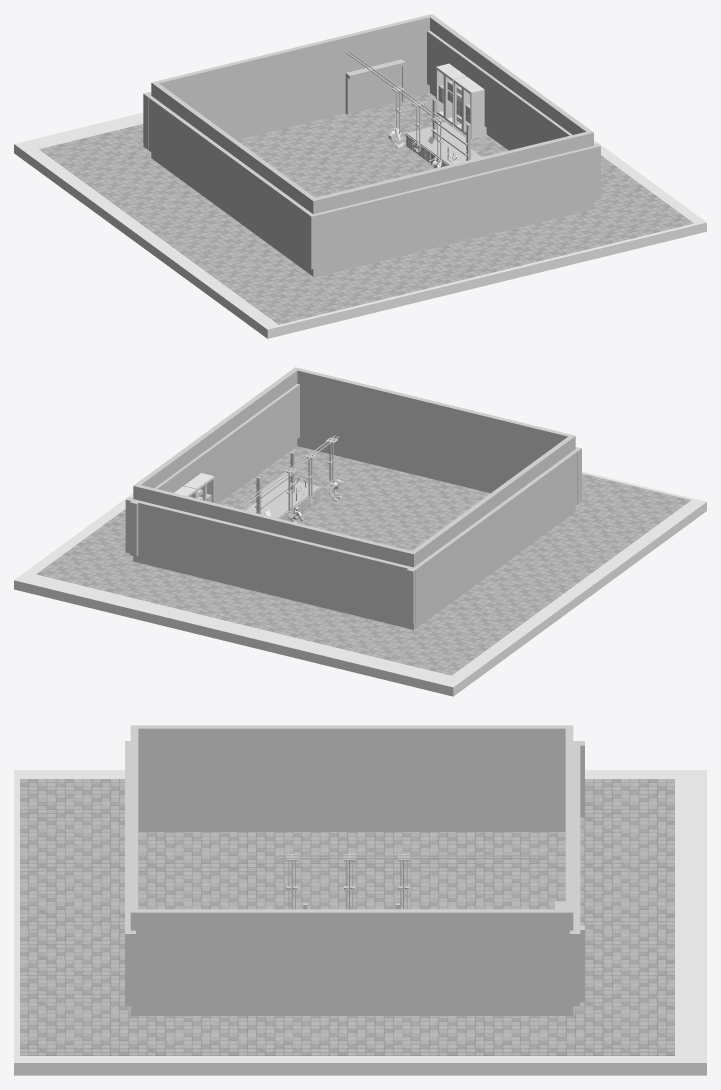
Rendered from taller5.glb.
The picture shows the model from 3 angles, top to bottom: view 1: azimuth 30°, elevation 25°; view 2: azimuth 150°, elevation 25°; view 3: azimuth 270°, elevation 25°; orthographic projection. The views are drawn at different scales.
Parts seen in each view (by area): view 1: Cube.039, collide_pared2, Cube.127, collide_suelo, collide_pared4, Cube.132, collide_pared3, Cube.142, Cube.126, Cube.140, Cube.045, collide_mesa (+2 smaller); view 2: Cube.039, Cube.132, collide_suelo, collide_pared1, collide_pared4, Cube.127, collide_pared3, Cube.142, Cube.126, Cube.045, collide_mesa; view 3: Cube.039, Cube.126, Cube.142, collide_suelo, collide_pared1, collide_pared2, Cube.127, Cube.132.
Part boxes in pixels (left/top/right/bottom): Cube.039: left=39, top=93, right=693, bottom=324; collide_pared2: left=307, top=143, right=600, bottom=269; Cube.127: left=154, top=14, right=432, bottom=139; collide_suelo: left=14, top=112, right=706, bottom=338; collide_pared4: left=143, top=92, right=314, bottom=266; Cube.132: left=313, top=130, right=593, bottom=276; collide_pared3: left=427, top=30, right=593, bottom=148; Cube.142: left=151, top=81, right=317, bottom=276; Cube.126: left=427, top=14, right=593, bottom=207; Cube.140: left=345, top=59, right=405, bottom=114; Cube.045: left=405, top=99, right=472, bottom=166; collide_mesa: left=406, top=125, right=481, bottom=166; Cube.039: left=36, top=446, right=690, bottom=675; Cube.132: left=294, top=367, right=574, bottom=493; collide_suelo: left=14, top=471, right=706, bottom=696; collide_pared1: left=125, top=497, right=419, bottom=622; collide_pared4: left=406, top=450, right=577, bottom=624; Cube.127: left=133, top=484, right=415, bottom=629; collide_pared3: left=129, top=383, right=299, bottom=556; Cube.142: left=411, top=435, right=575, bottom=629; Cube.126: left=133, top=367, right=299, bottom=503; Cube.045: left=255, top=452, right=321, bottom=520; collide_mesa: left=245, top=479, right=320, bottom=520; Cube.039: left=20, top=779, right=674, bottom=1055; Cube.126: left=131, top=909, right=572, bottom=1015; Cube.142: left=131, top=725, right=572, bottom=831; collide_suelo: left=14, top=770, right=706, bottom=1075; collide_pared1: left=569, top=745, right=580, bottom=1005; collide_pared2: left=125, top=741, right=135, bottom=1005; Cube.127: left=565, top=725, right=573, bottom=1015; Cube.132: left=130, top=725, right=138, bottom=1015.
Bounding box in the file's own units: 127 × 23.54 × 127.
Materials: 11 (1 with a texture image).
